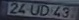2: (9, 2, 18, 14)
3: (61, 6, 69, 18)
4: (53, 5, 61, 17), (17, 3, 25, 15)
D: (39, 4, 49, 16)
U: (29, 4, 40, 16)
